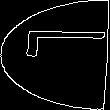L_E: (5, 39, 105, 71)
